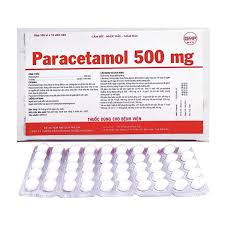Paracetamol: (30, 52, 128, 65)
